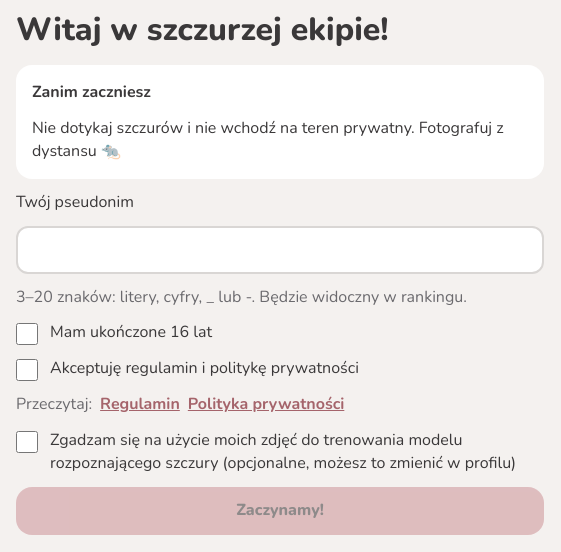
podpowiada, co jest nie tak z pseudonimem
Type "a b" into the field labelled "Twój pseudonim". click: (280, 250)
box: 16,226 -> 544,274
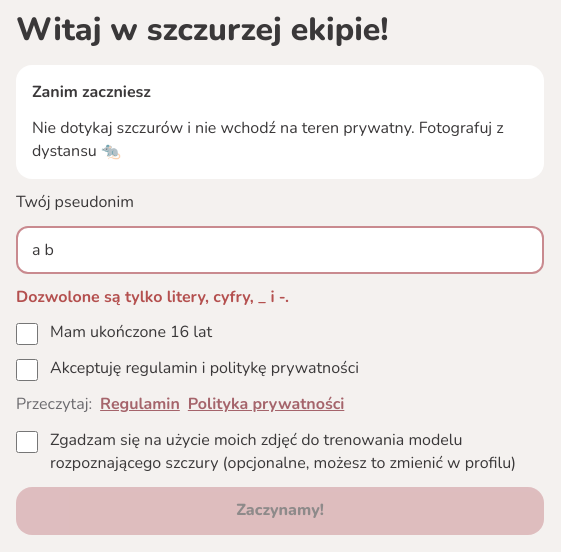
Result: the text "Dozwolone są tylko litery, cyfry, _ i -." is shown at 16,286 -> 289,308
